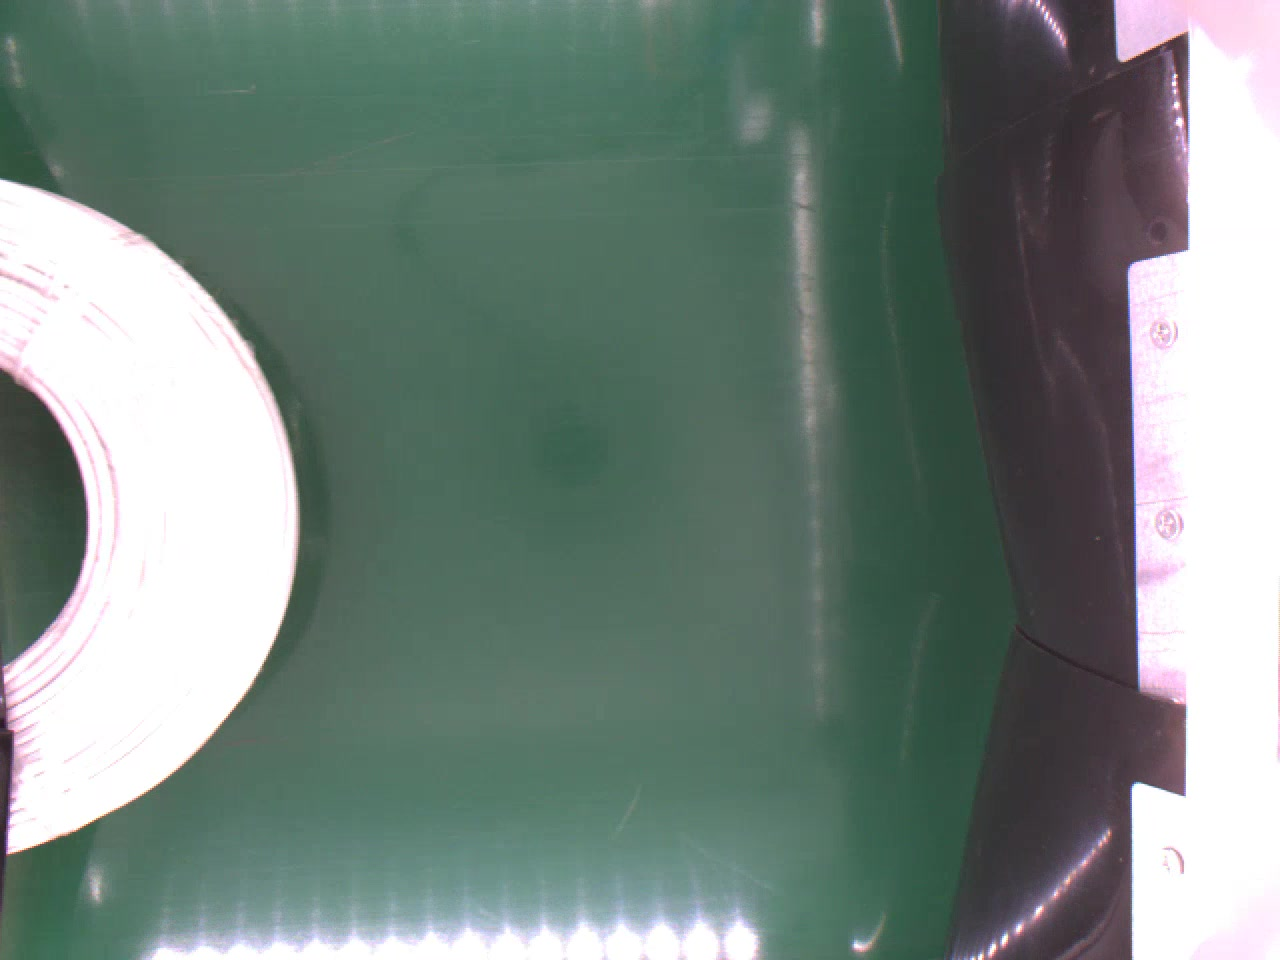white: (0, 177, 299, 856)
